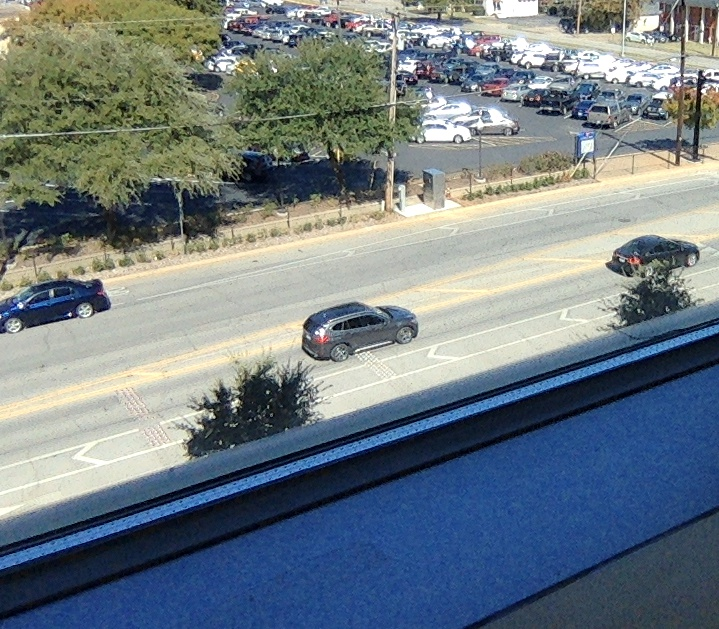car: (300, 300, 419, 364)
